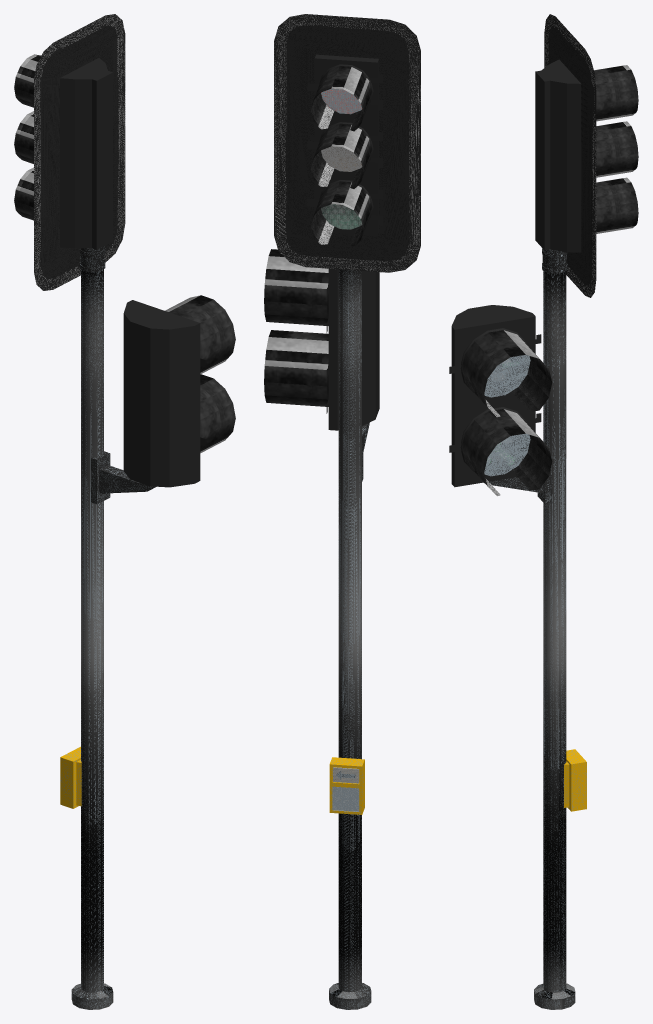
File: SemaforoCorto.fbx
3 renders of one model, left to right at view 1: azimuth 30°, elevation 25°; view 2: azimuth 150°, elevation 25°; view 3: azimuth 270°, elevation 25°, orthographic. The views are drawn at different scales.
Parts seen in each view (by area): view 1: Group3, G_8_inch_Round_Cornered_backplate1, chile_signal_12in2, chile_signal_12in1, Chile_signal1, Chile_signal3, Chile_signal2, visor_8_inch_2_2, visor_8_inch_2_1, Group_64_1, Group_123_1, visor_8_inch_3_1 (+3 smaller); view 2: G_8_inch_Round_Cornered_backplate1, Group3, visor_8_inch_2_1, visor_8_inch_2_2, chile_signal_12in1, chile_signal_12in2, visor_8_inch_3_1, visor_8_inch_3_2, visor_8_inch_3_3, Group_123_1, Chile_signal1, Chile_signal3 (+5 smaller); view 3: Group3, G_8_inch_Round_Cornered_backplate1, visor_8_inch_2_2, visor_8_inch_2_1, chile_signal_12in2, Chile_signal1, Chile_signal2, Chile_signal3, chile_signal_12in1, visor_8_inch_3_1, visor_8_inch_3_3, visor_8_inch_3_2 (+5 smaller).
Boxes of the visible parts, bbox=[...] form: Group3: bbox=[71, 269, 113, 1009]; G_8_inch_Round_Cornered_backplate1: bbox=[34, 14, 125, 290]; chile_signal_12in2: bbox=[123, 300, 200, 408]; chile_signal_12in1: bbox=[123, 392, 200, 487]; Chile_signal1: bbox=[60, 58, 112, 136]; Chile_signal3: bbox=[60, 129, 112, 193]; Chile_signal2: bbox=[60, 185, 112, 249]; visor_8_inch_2_2: bbox=[165, 295, 235, 374]; visor_8_inch_2_1: bbox=[200, 374, 235, 453]; Group_64_1: bbox=[91, 451, 156, 504]; Group_123_1: bbox=[60, 746, 81, 808]; visor_8_inch_3_1: bbox=[14, 54, 40, 107]; G_8_inch_Round_Cornered_backplate1: bbox=[274, 14, 420, 272]; Group3: bbox=[329, 269, 371, 1009]; visor_8_inch_2_1: bbox=[264, 330, 328, 406]; visor_8_inch_2_2: bbox=[264, 249, 328, 325]; chile_signal_12in1: bbox=[327, 328, 379, 430]; chile_signal_12in2: bbox=[327, 268, 379, 349]; visor_8_inch_3_1: bbox=[311, 66, 371, 131]; visor_8_inch_3_2: bbox=[311, 181, 371, 246]; visor_8_inch_3_3: bbox=[311, 124, 371, 188]; Group_123_1: bbox=[329, 757, 364, 814]; Chile_signal1: bbox=[314, 54, 378, 120]; Chile_signal3: bbox=[314, 117, 378, 177]; Group3: bbox=[534, 271, 575, 1009]; G_8_inch_Round_Cornered_backplate1: bbox=[544, 14, 596, 297]; visor_8_inch_2_2: bbox=[462, 330, 552, 417]; visor_8_inch_2_1: bbox=[461, 409, 552, 496]; chile_signal_12in2: bbox=[451, 305, 535, 408]; Chile_signal1: bbox=[535, 59, 581, 139]; Chile_signal2: bbox=[535, 184, 581, 252]; Chile_signal3: bbox=[535, 128, 581, 196]; chile_signal_12in1: bbox=[451, 398, 535, 487]; visor_8_inch_3_1: bbox=[594, 65, 638, 121]; visor_8_inch_3_3: bbox=[596, 121, 638, 177]; visor_8_inch_3_2: bbox=[596, 177, 638, 233].
Size of the model in its own units: 0.8101 by 4.36 by 0.7738.
